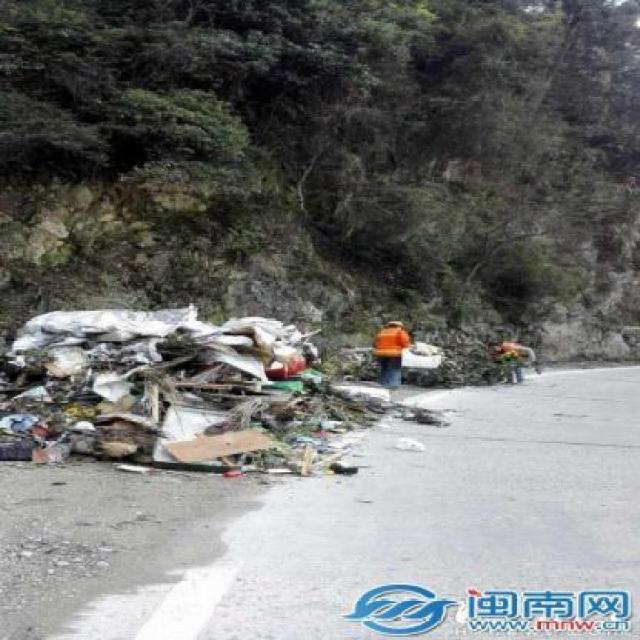garbage: (0, 306, 353, 478), (360, 385, 448, 450), (416, 345, 487, 385)
